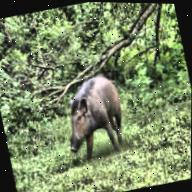boar: (33, 51, 139, 160)
